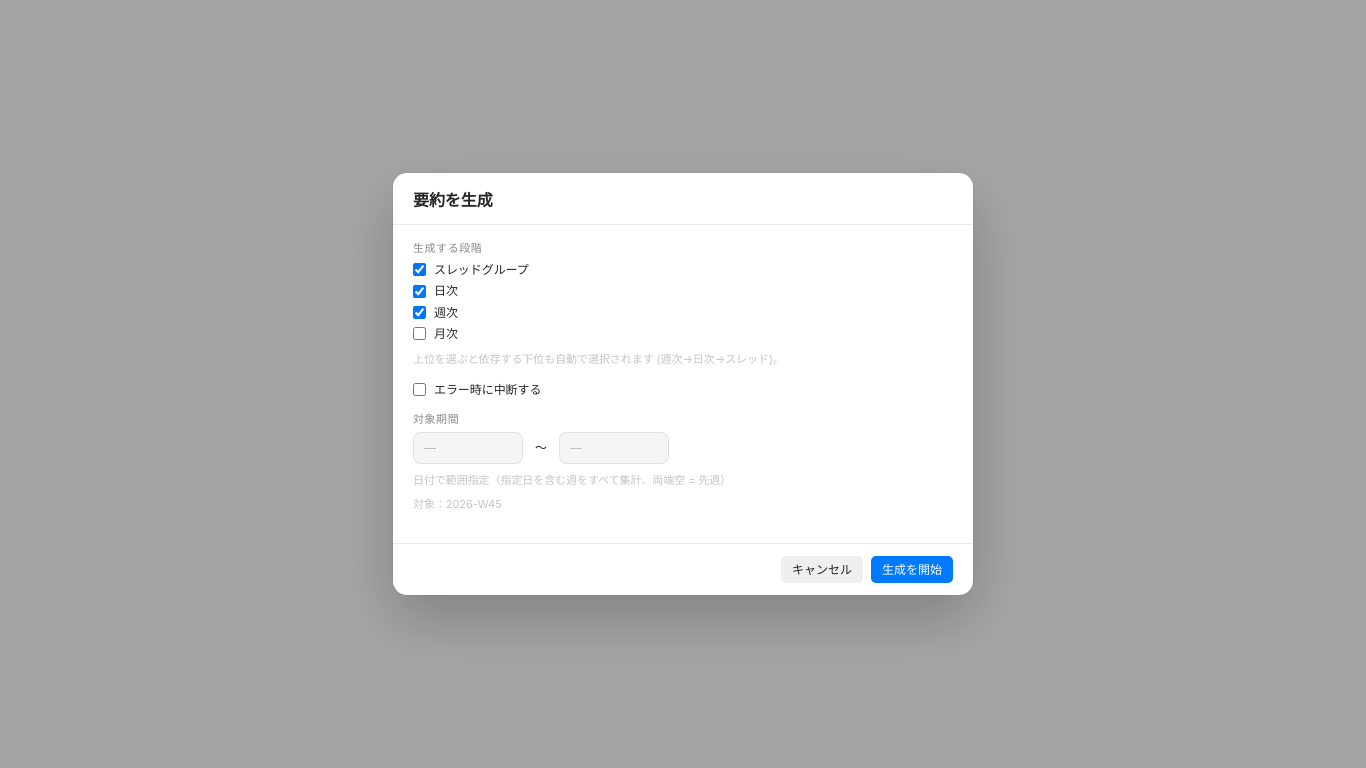
it: SummaryGenerateDialog › uses a date picker when weekly is the top granularity
Click the button named "開始": (468, 448) [413,432,523,464]
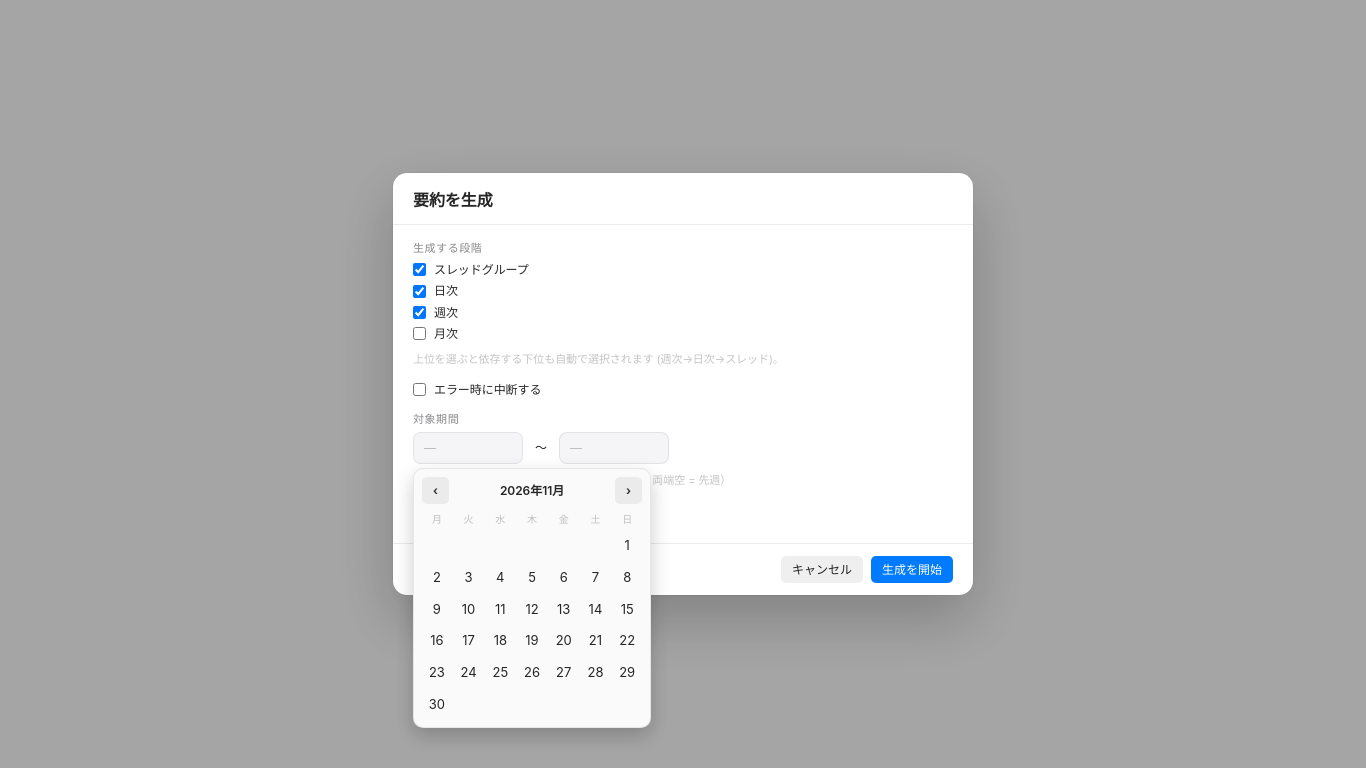
Expected: the text "月" is shown, [432,513,442,525]
Expected: the text "日" is shown, [622,513,632,525]
